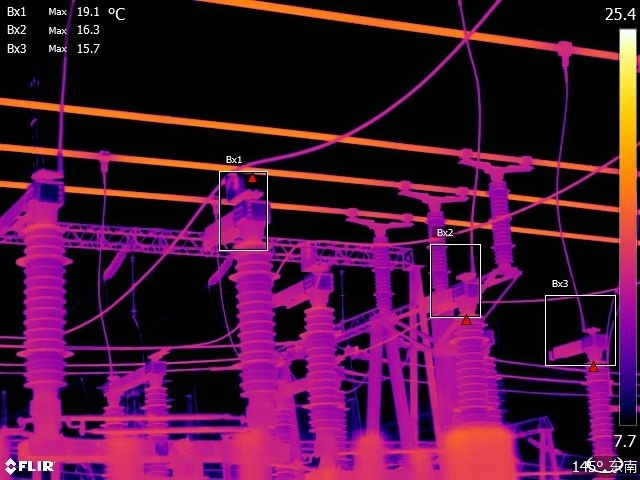clamp: (549, 31, 579, 74), (91, 142, 117, 180)
insulator: (203, 250, 235, 290), (101, 244, 130, 281)
post insulator: (10, 219, 92, 396), (231, 235, 283, 398), (294, 304, 344, 446), (451, 315, 497, 429), (583, 358, 621, 463), (139, 389, 171, 480), (488, 180, 520, 268), (424, 211, 452, 281), (371, 230, 396, 307), (101, 404, 130, 448)
switch: (1, 166, 65, 253), (200, 190, 283, 256), (415, 270, 488, 325), (100, 350, 175, 403), (537, 326, 612, 373), (272, 273, 343, 312)
